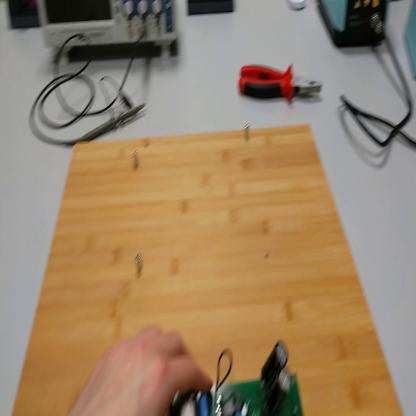hand: (72, 326, 212, 415)
high voltage board: (167, 336, 304, 416)
oscilloscope: (41, 2, 182, 75)
oscilloscope probe tip: (68, 105, 146, 148)
pliers: (240, 62, 325, 103)
socket: (8, 2, 42, 31)
welder base: (405, 3, 415, 86)
welder station: (320, 2, 390, 53)
working area: (14, 126, 404, 413)
